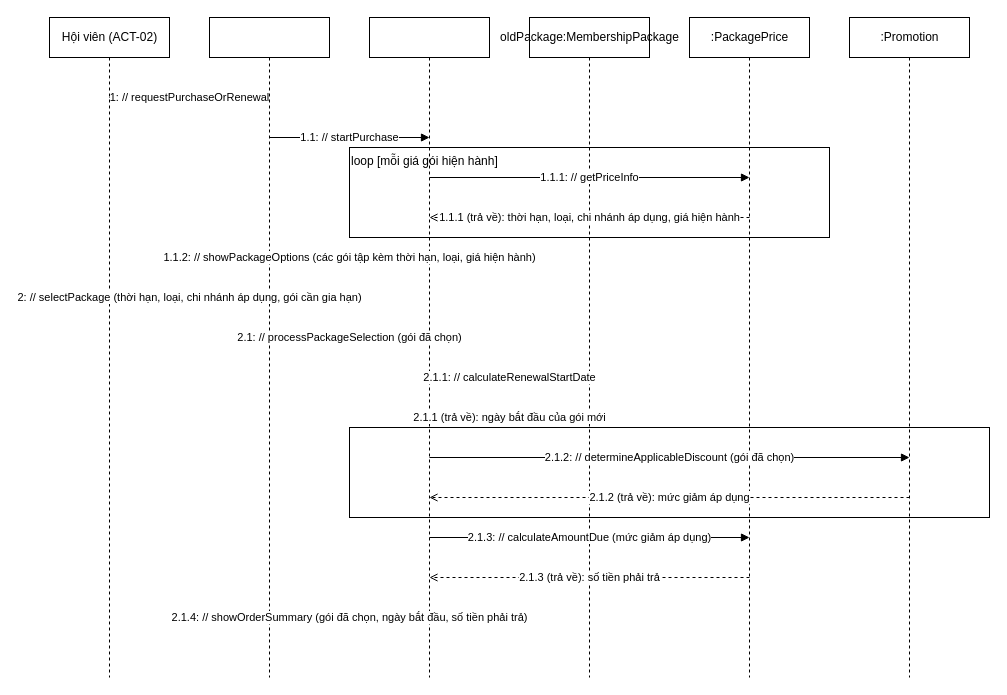
Image size: 1007x695. Some labels were removed from this diagram. Each missing label, with the box of its shape:
:PurchaseOrRenewPackageHandler: (368, 16, 490, 678)
:PurchaseOrRenewPackageUI: (208, 16, 330, 678)
loop [mỗi chương trình khuyến mãi đang đặt]: (348, 426, 990, 518)
